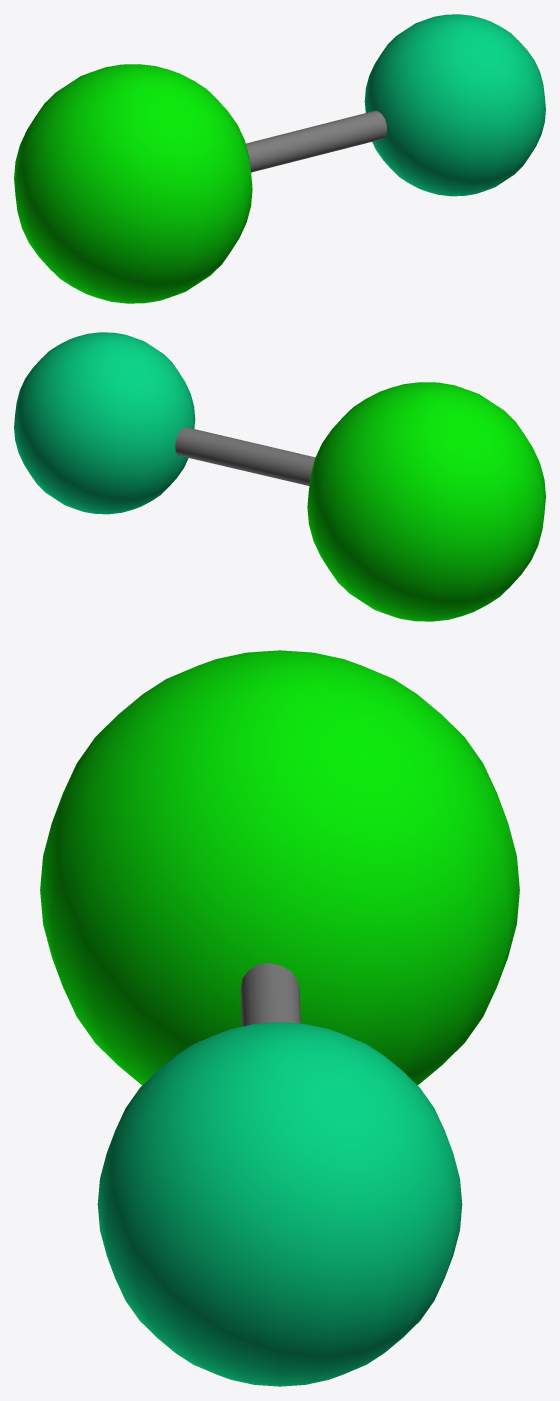
The model's file is KCl.fbx.
3 renders of one model, top to bottom at view 1: azimuth 30°, elevation 25°; view 2: azimuth 150°, elevation 25°; view 3: azimuth 270°, elevation 25°, orthographic. The views are drawn at different scales.
Parts seen in each view (by area): view 1: KCl; view 2: KCl; view 3: KCl.
Boxes of the visible parts, x1,y1,x2,y2 form: KCl: (14,14,545,303); KCl: (14,332,545,621); KCl: (40,650,519,1386).
Size of the model in its own units: 6.4 by 2.63 by 2.63.
